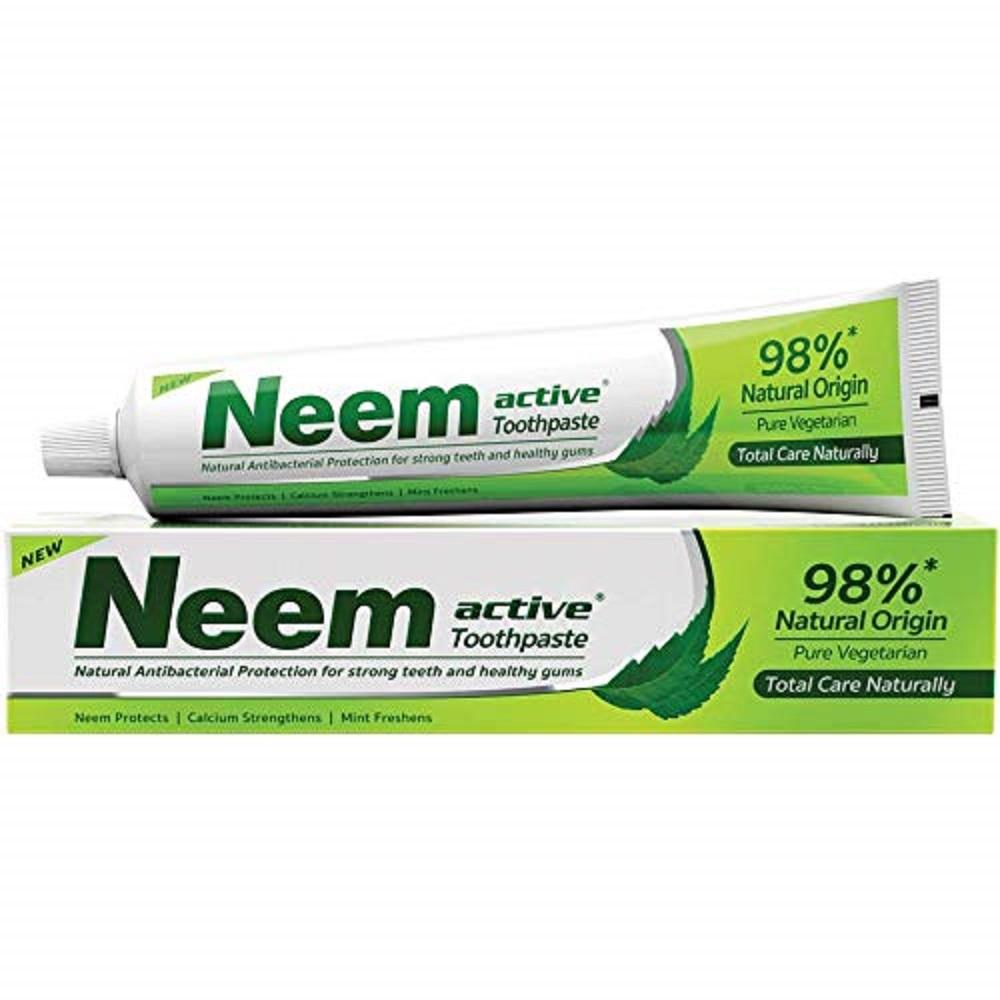toothpaste: (0, 503, 993, 767), (17, 302, 978, 511)
